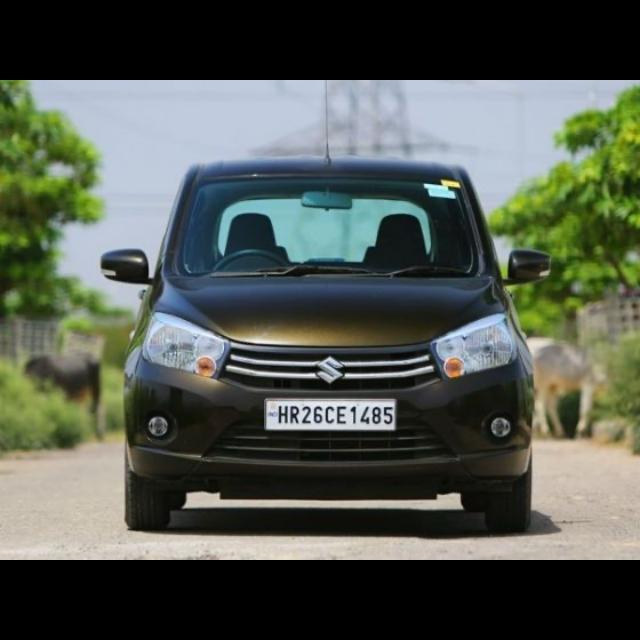carPlate: (265, 399, 395, 431)
